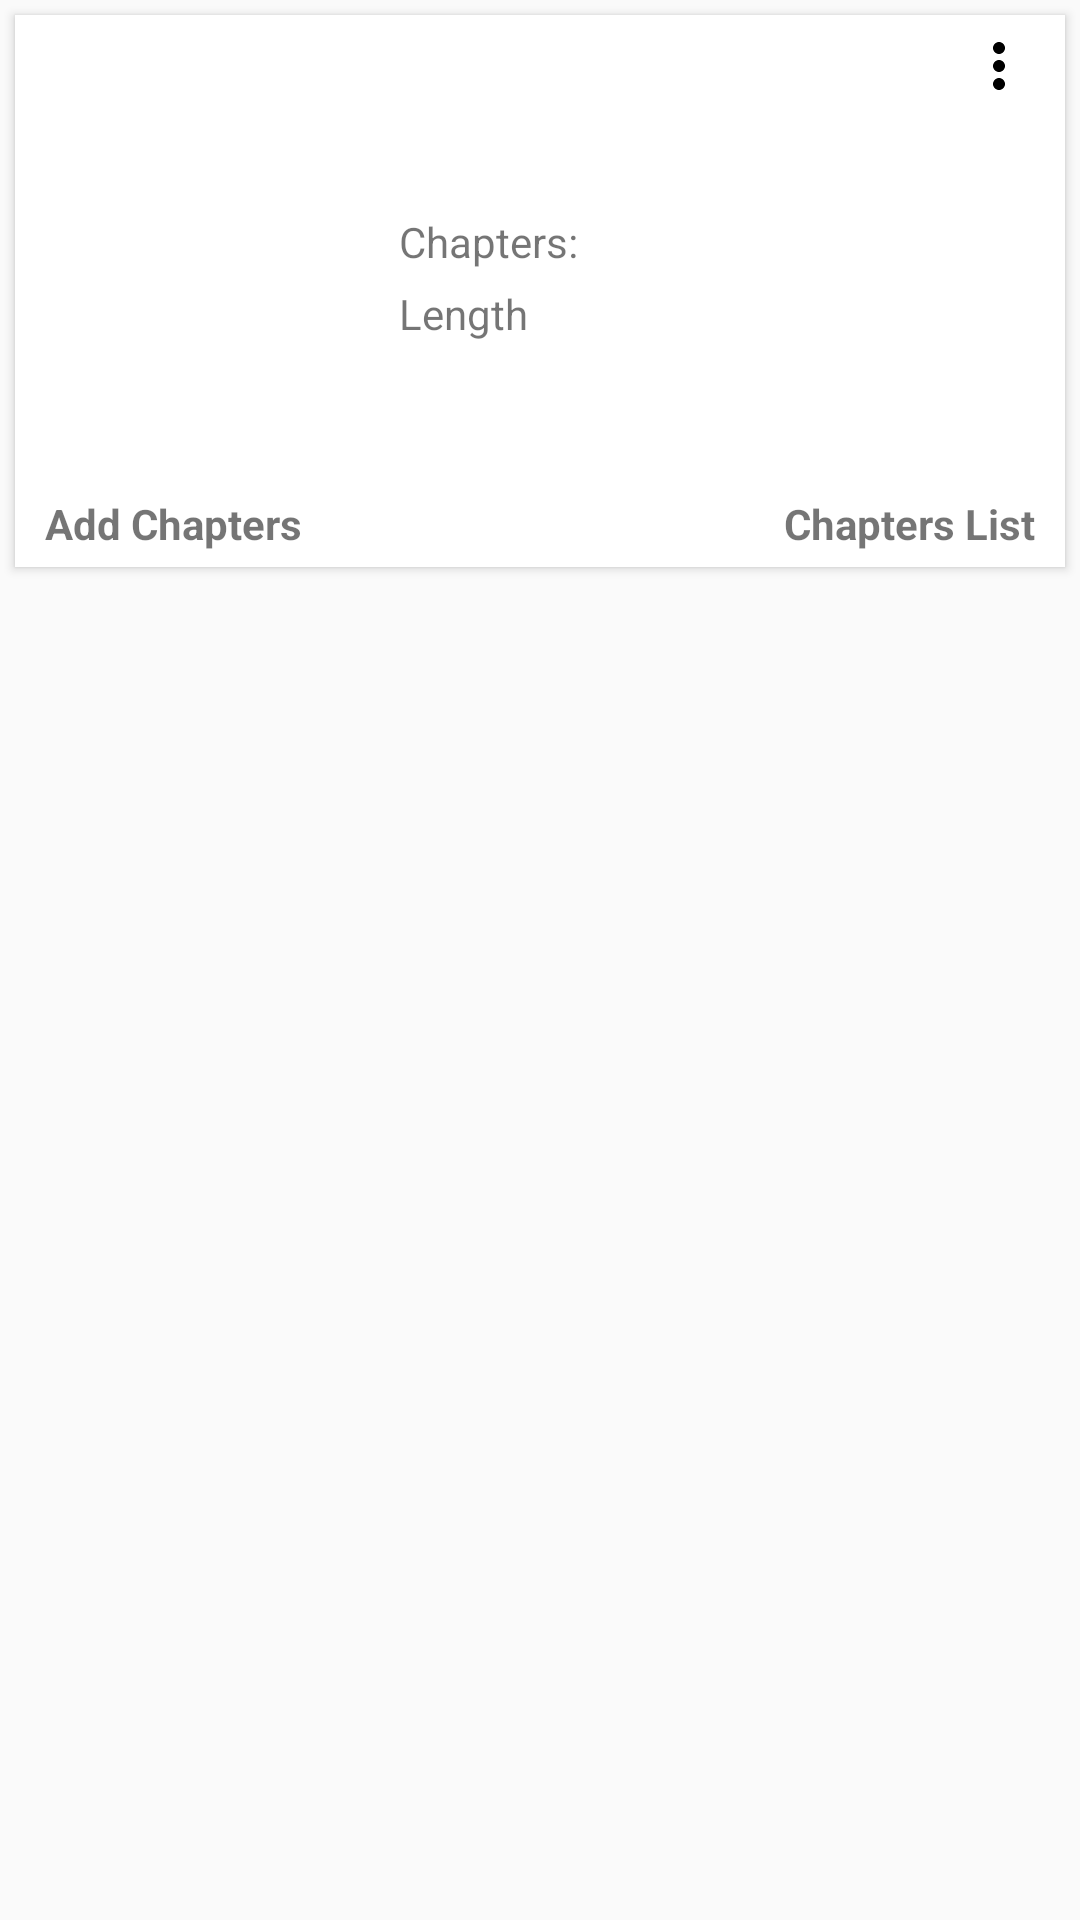

Screen size 1080x1920. Icon name, then its box in pixels as bbox(x1, y1, x2, y2):
more vert: bbox(993, 42, 1005, 90)
